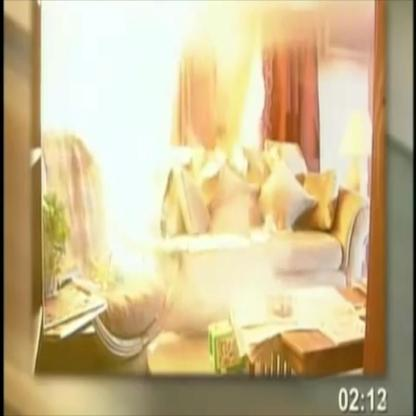fire: (100, 20, 166, 274)
